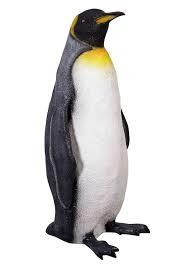king: (34, 1, 151, 262)
